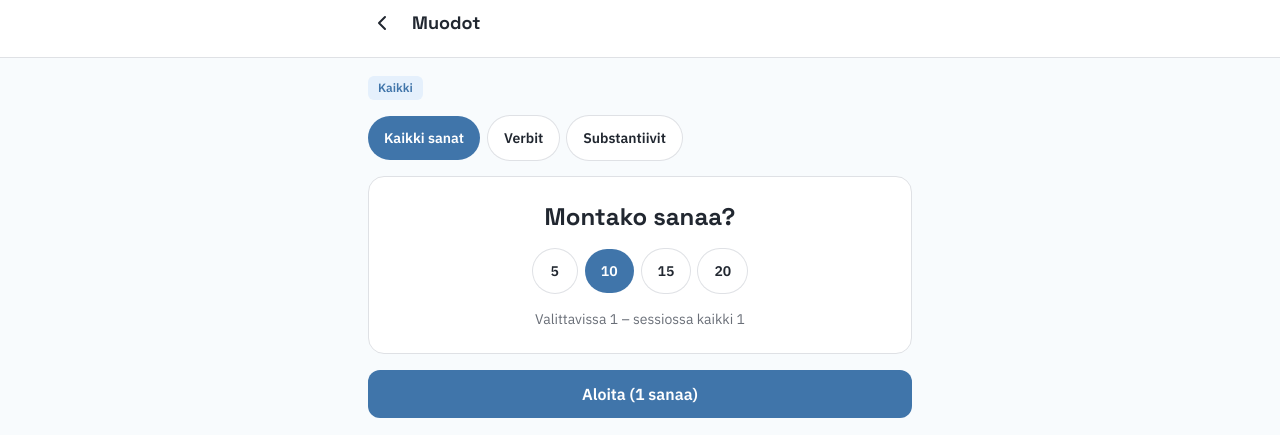
it: WordForms practice › keeps the toggle visible when a kind has no words, so it can be switched back
Step 1. Click the button "Substantiivit" → (625,138), box [567,116,682,160]
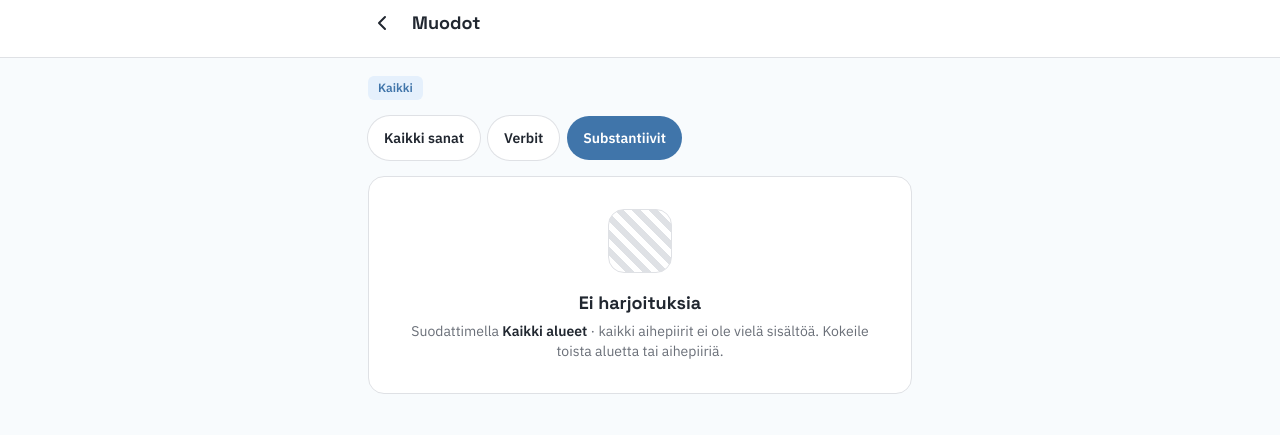
Check: the text "Ei harjoituksia" is shown, box [579,289,701,317]
Step 2. Click the button "Verbit" → (524,138), box [488,116,559,160]
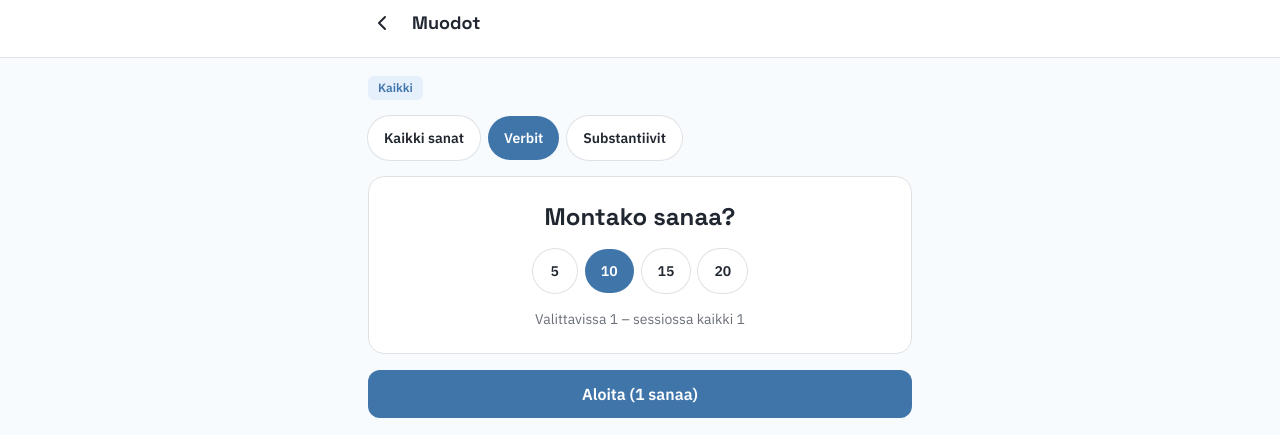
Check: the heading "Montako sanaa?" is shown, box [544,201,735,232]
